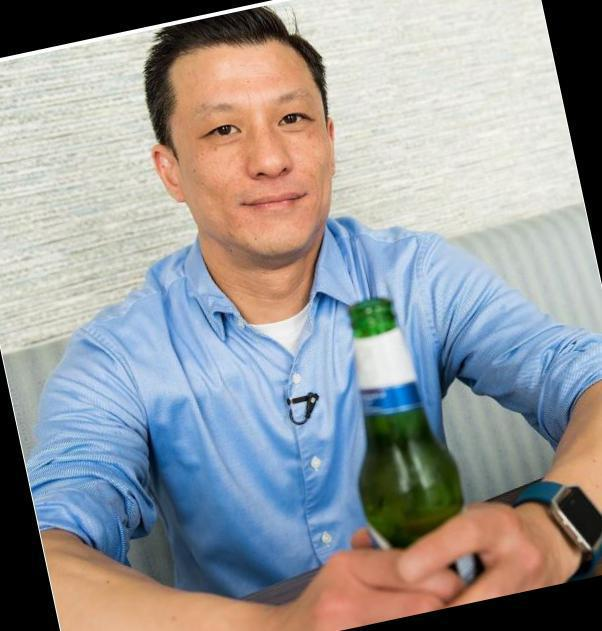Sober: (181, 37, 334, 253)
